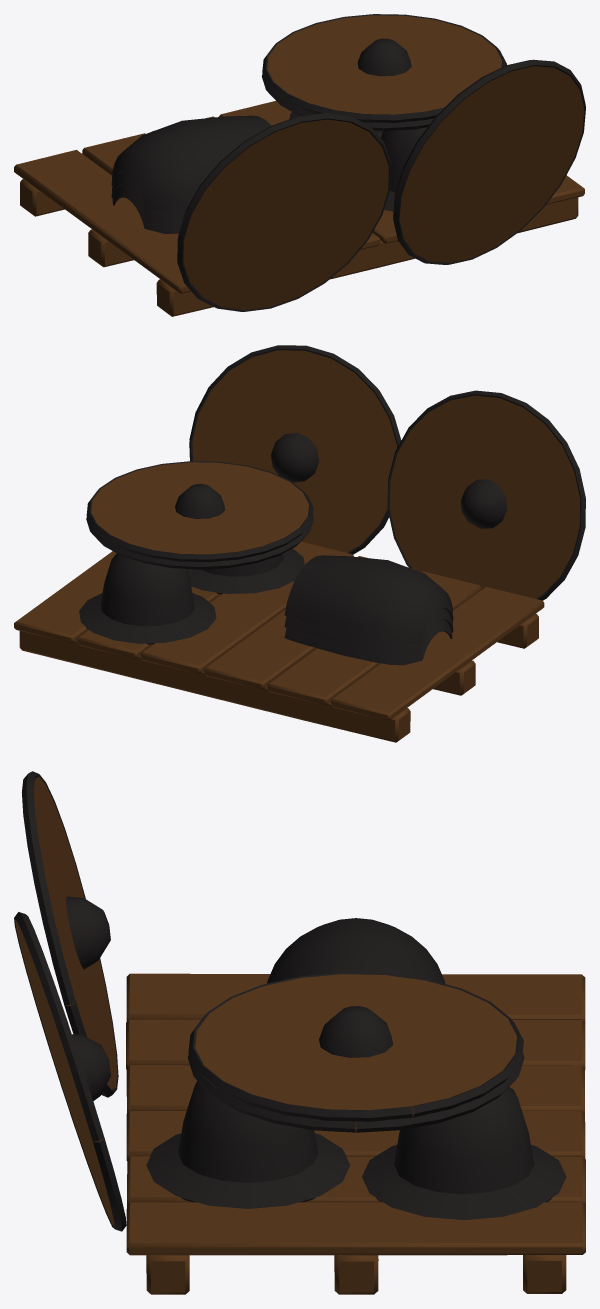
Rendered from ruestungsstapel.glb.
3 views of the same model, one above another, from view 1: azimuth 30°, elevation 25°; view 2: azimuth 150°, elevation 25°; view 3: azimuth 270°, elevation 25° (orthographic). The views are drawn at different scales.
Parts seen in each view (by area): view 1: ruestungsstapel; view 2: ruestungsstapel; view 3: ruestungsstapel.
Boxes of the visible parts, x1,y1,x2,y2 form: ruestungsstapel: [14, 14, 585, 316]; ruestungsstapel: [14, 345, 585, 742]; ruestungsstapel: [14, 771, 585, 1294].
Size of the model in its own units: 1.26 by 0.6027 by 1.06.
